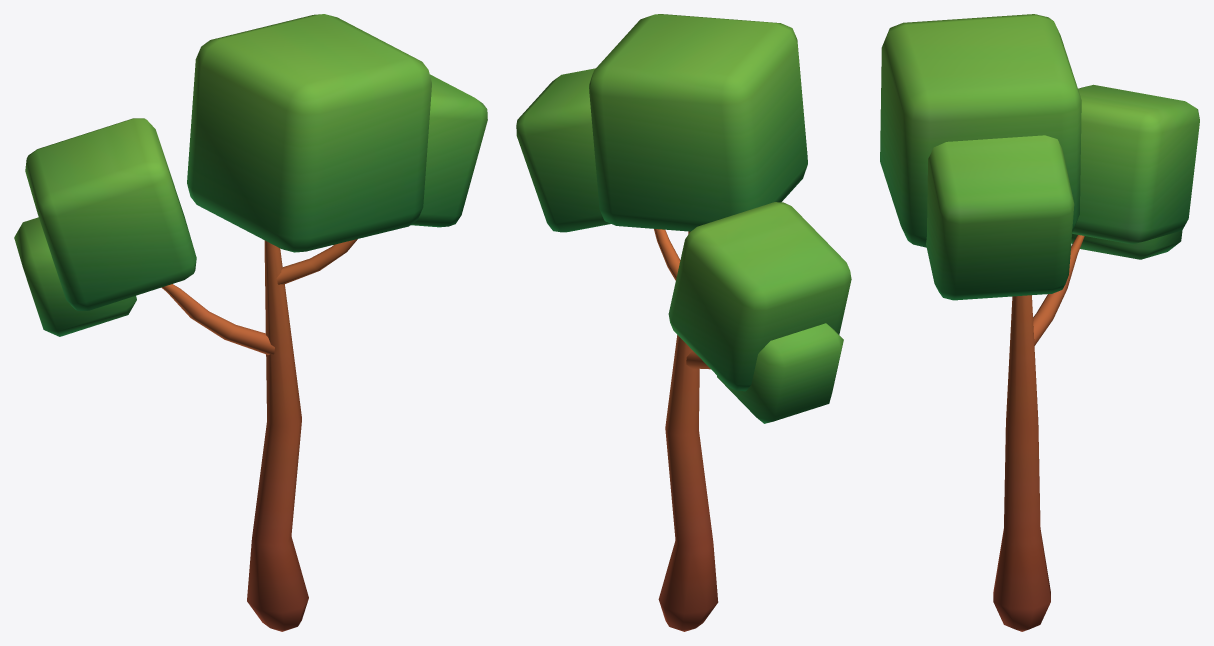
The model's file is tree_2_c_color1.glb.
The picture shows the model from 3 angles, left to right: view 1: azimuth 30°, elevation 25°; view 2: azimuth 150°, elevation 25°; view 3: azimuth 270°, elevation 25°; orthographic projection. The views are drawn at different scales.
Parts seen in each view (by area): view 1: Tree_2_C_Color1; view 2: Tree_2_C_Color1; view 3: Tree_2_C_Color1.
Part boxes in pixels (x1,y1,x2,y2): Tree_2_C_Color1: (14, 14, 487, 631); Tree_2_C_Color1: (516, 14, 851, 631); Tree_2_C_Color1: (880, 14, 1199, 631).
Bounding box in the file's own units: 4.6 × 6.92 × 3.4.
1 material, 1 textured.
